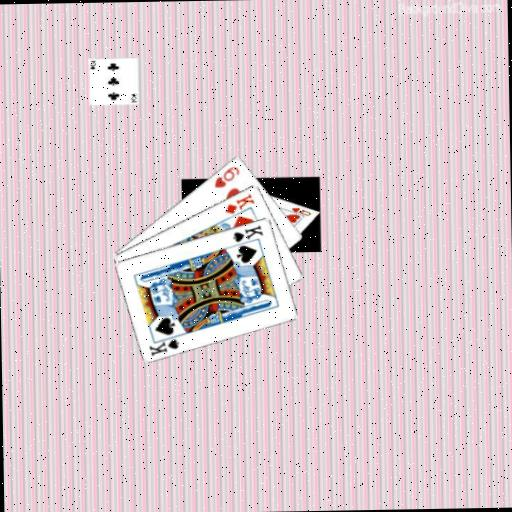6H: (211, 163, 241, 189)
KD: (222, 191, 256, 216)
KS: (147, 332, 182, 358), (230, 222, 264, 244)
